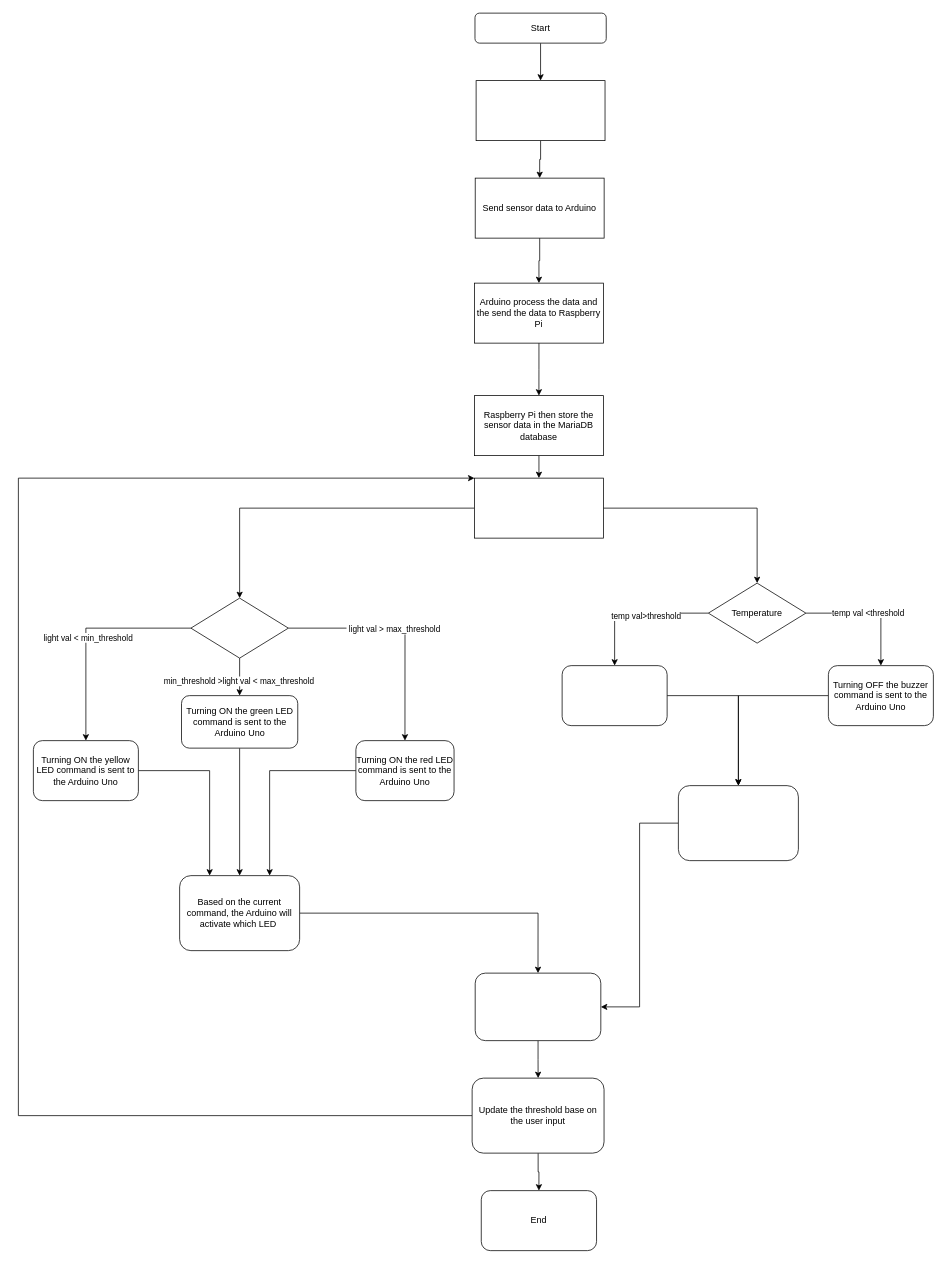
Image size: 947x1264. Some labels were removed from this diagram. The box of each missing label's shape, as (x1, y1, x2, y2) in pixels:
Based on the current command, the Arduino will activate the buzzer or not: (678, 785, 798, 861)
Light sensor for LEDs: (190, 597, 288, 658)
Read DHT22 and Light data from sensors: (475, 80, 605, 141)
Run edge analytics: (474, 477, 603, 538)
Turning ON the buzzer command is sent to the Arduino Uno: (561, 665, 667, 726)
User will interact with the website and make changes for the threshold if needed: (474, 972, 601, 1041)
